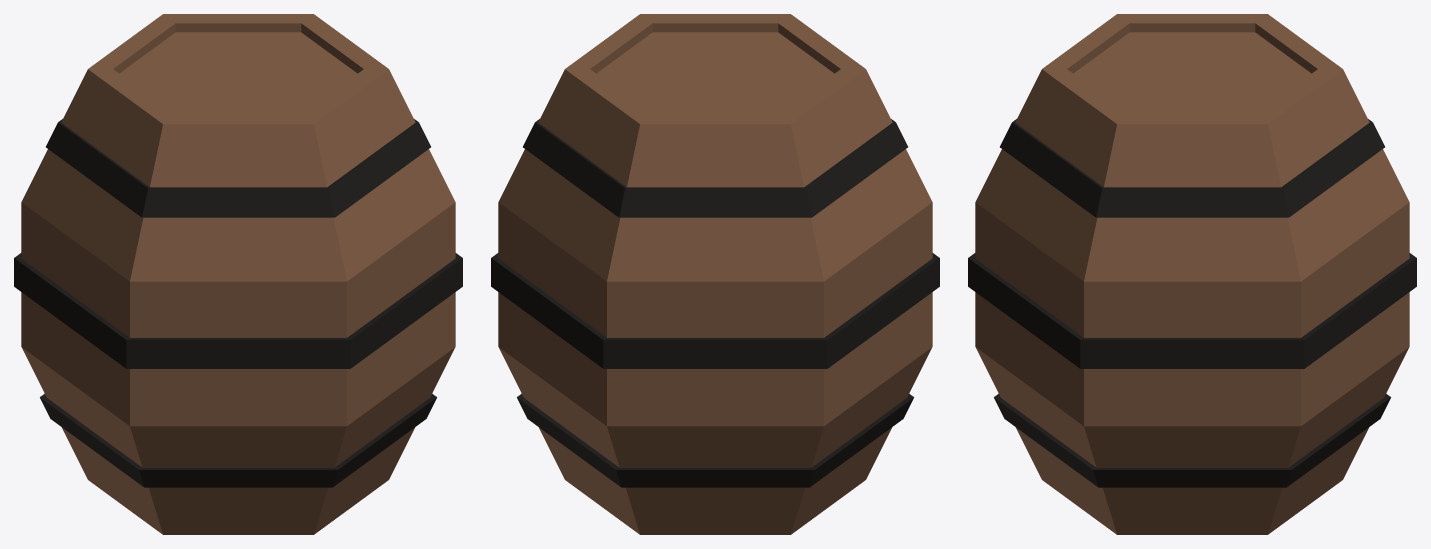
The model's file is Barrel_1.fbx.
3 renders of one model, left to right at view 1: azimuth 30°, elevation 25°; view 2: azimuth 150°, elevation 25°; view 3: azimuth 270°, elevation 25°, orthographic.
Visible parts, largest first — view 1: Barrel_1; view 2: Barrel_1; view 3: Barrel_1.
Part boxes in pixels (x1=…): Barrel_1: x1=14, y1=14, x2=462, y2=534; Barrel_1: x1=491, y1=14, x2=939, y2=534; Barrel_1: x1=968, y1=14, x2=1416, y2=534.
Bounding box in the file's own units: 36.11 × 31.27 × 36.46.
